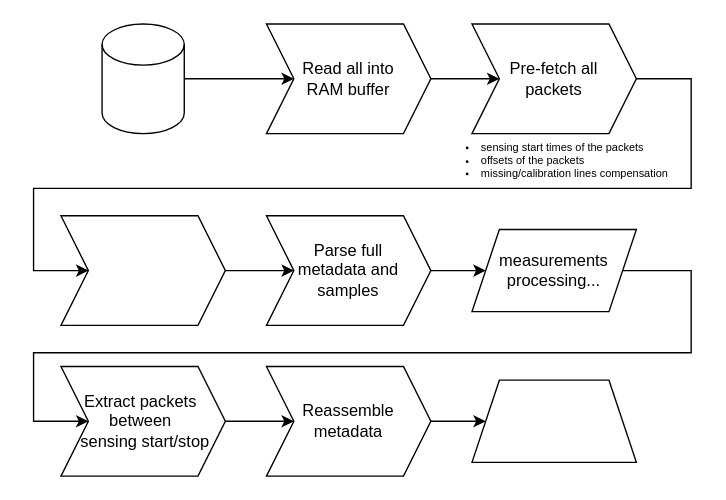
This 726x500 diagram has some shape labels left out. The shapes that lost their labels are listed below. From the top down, each one's centre as x and y in pixels, then its label:
[142,78]: L0
[142,269]: Exclude ones not needed for padding
[553,420]: Final results format and L1 write
